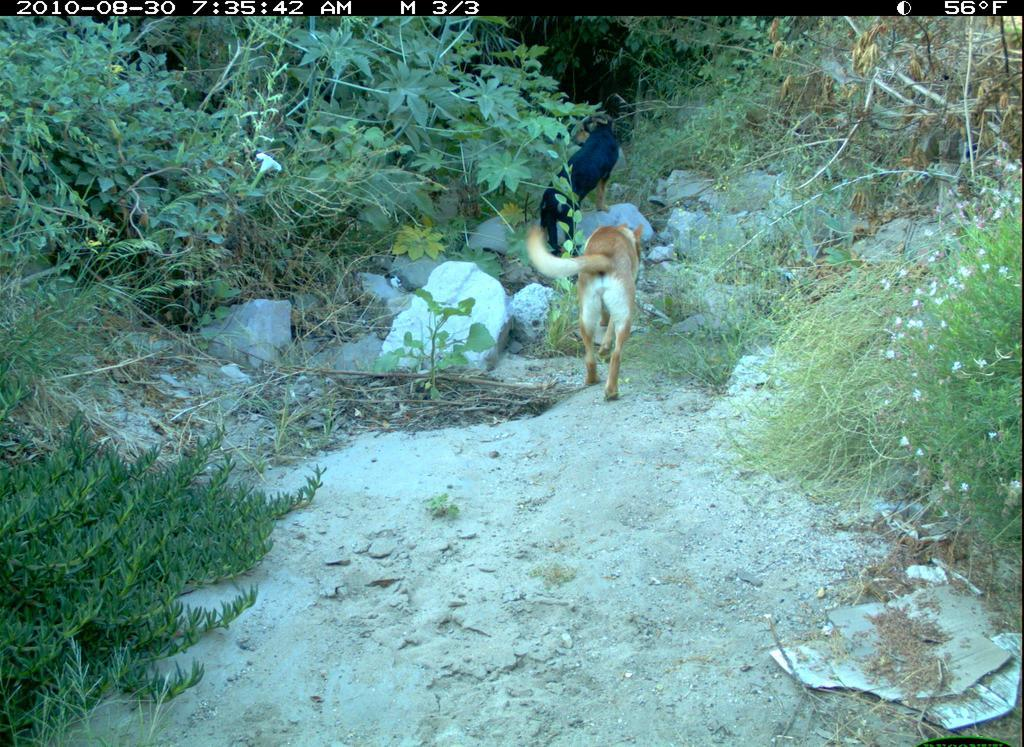dog: (518, 210, 653, 410), (529, 97, 620, 253)
